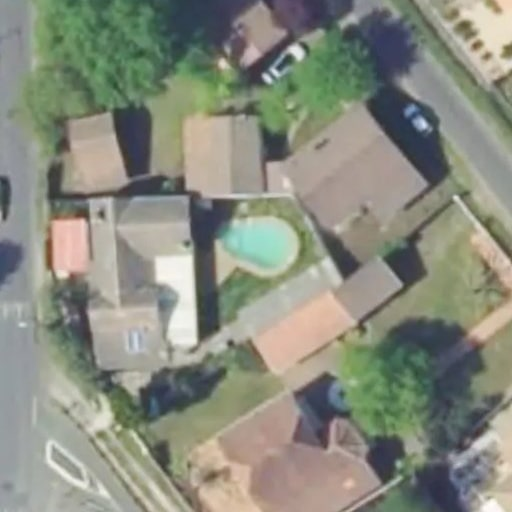pool: (211, 215, 303, 277)
